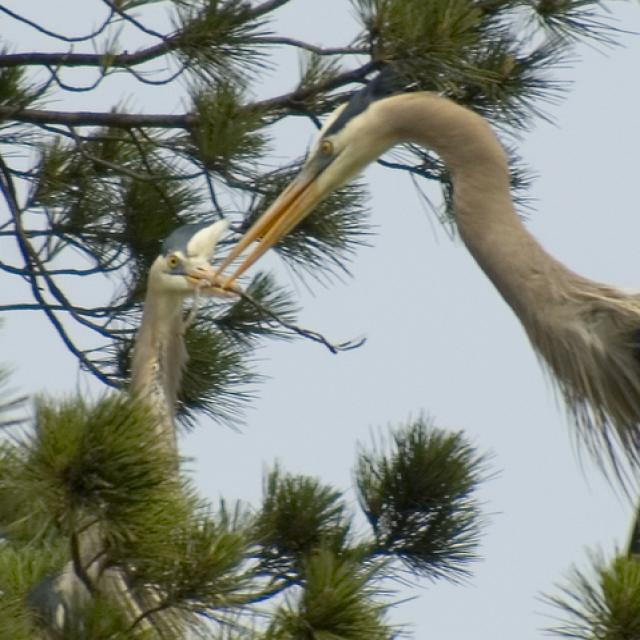bird: (207, 54, 640, 518), (19, 217, 242, 640)
